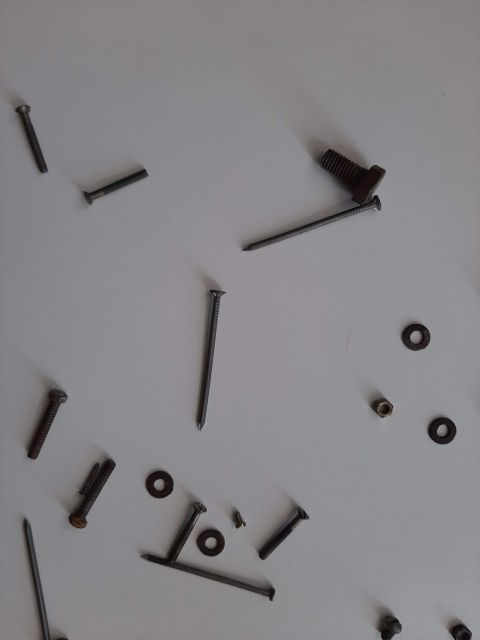gwozdz: (185, 275, 265, 445), (235, 185, 385, 265), (125, 535, 275, 615), (5, 505, 65, 625)
nakretka: (335, 385, 385, 415)
podkladka: (365, 305, 445, 355), (395, 395, 455, 455), (125, 445, 185, 505), (185, 505, 235, 565)
sruba: (5, 355, 75, 475), (65, 155, 175, 215), (305, 125, 385, 205), (245, 495, 325, 565), (65, 445, 125, 535), (5, 75, 45, 185), (155, 495, 215, 565)
